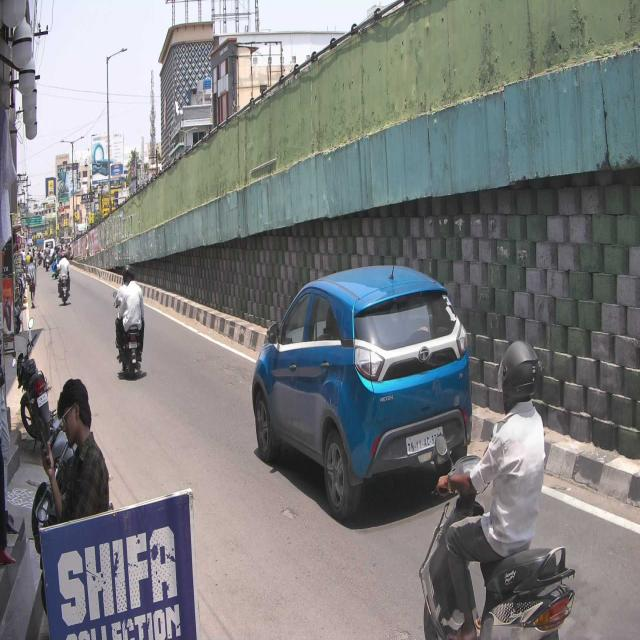single_rider: (418, 336, 577, 640)
